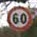limite 60: (6, 5, 32, 31)
